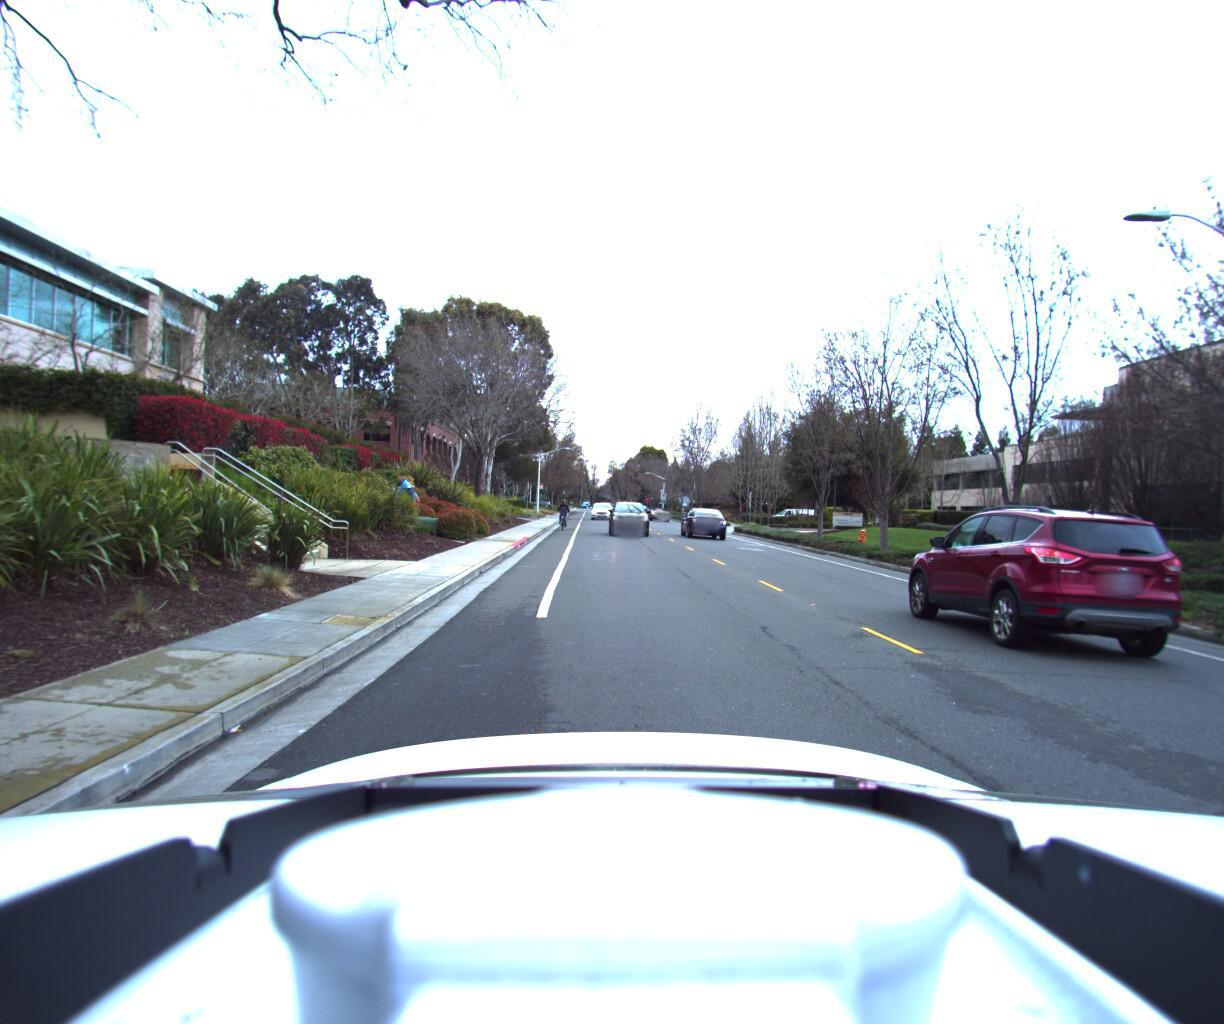bicycle: (553, 499, 571, 534)
car: (865, 495, 1134, 647), (607, 506, 651, 543), (677, 508, 725, 541), (589, 503, 613, 522), (649, 511, 673, 526)
